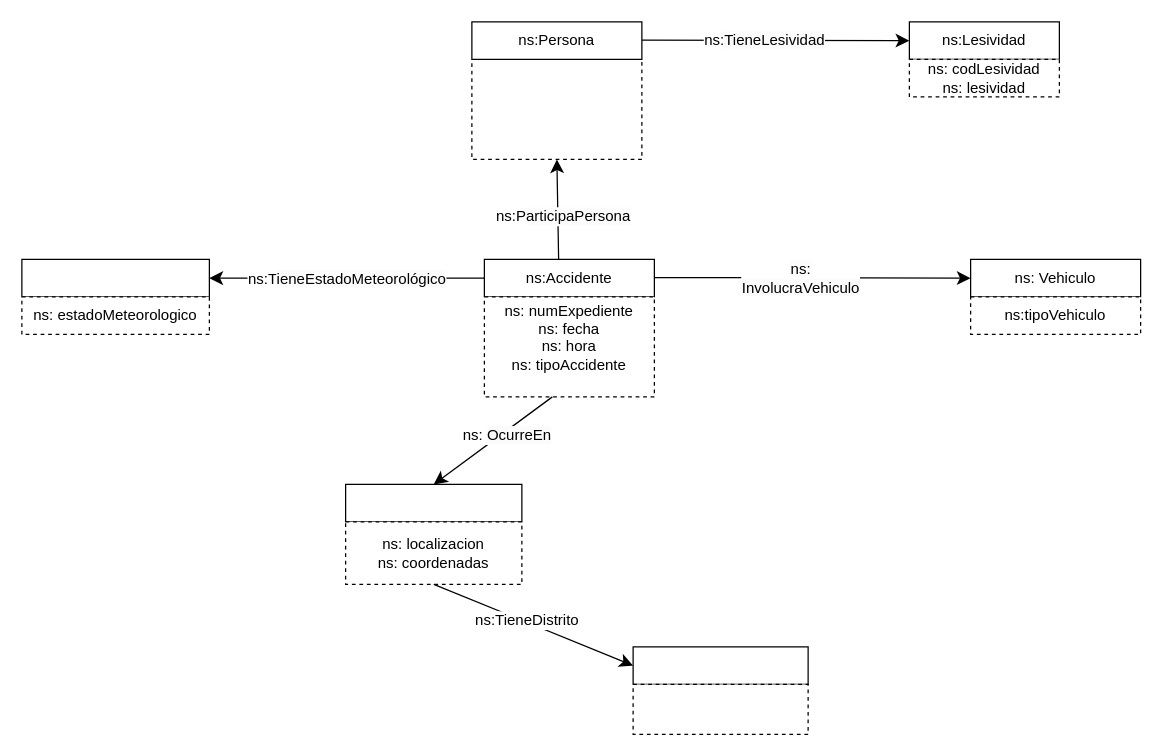
Some shapes in this 1163 by 756 pixel diagram are drawn without their labels. Here are the shapes that lost their labels. From the top down, the centre of each, then its label:
the point at 556,108: ns: tipoPersona ns: rangoEdad ns: sexo ns: positivaAlcohol ns: positivaDroga
the point at 115,277: ns:Estado Meteorológico
the point at 433,502: ns: Direccion
the point at 720,665: ns: Distrito
the point at 720,708: ns: distrito ns: distritoWikidata
